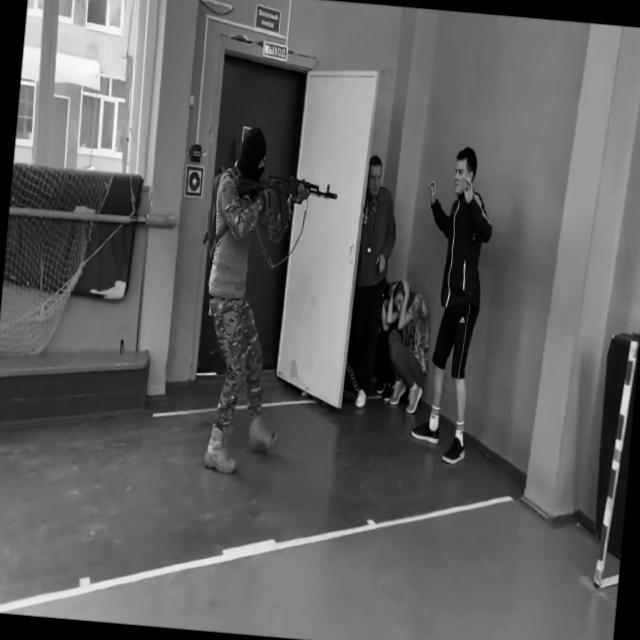gun: (231, 164, 340, 237)
person: (405, 143, 500, 466), (347, 154, 403, 411), (381, 280, 435, 416)
person with a gun: (190, 122, 344, 480)
